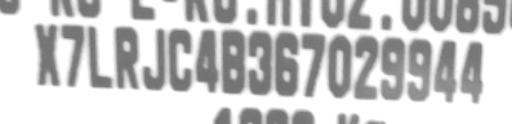letter: (218, 27, 246, 97), (32, 23, 62, 88), (58, 23, 88, 88), (112, 24, 140, 92), (166, 25, 194, 93), (460, 38, 488, 104), (86, 24, 114, 89), (432, 37, 460, 102), (140, 24, 166, 92), (194, 27, 220, 95), (248, 29, 274, 97), (326, 32, 352, 100), (353, 33, 379, 101), (379, 34, 405, 102), (300, 31, 326, 97), (406, 36, 432, 102), (273, 30, 297, 98)
